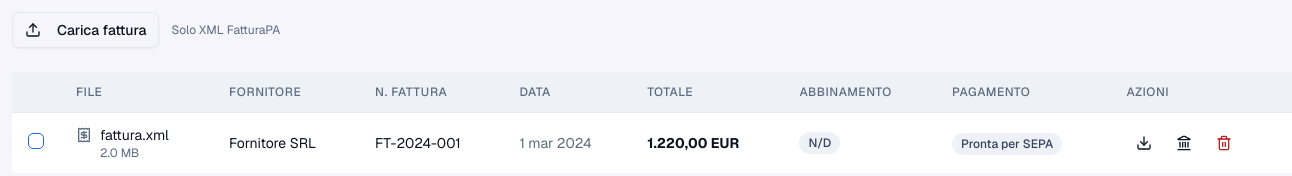
Test case: InvoicesTab › delete button is disabled while mutation is pending
This screenshot has width=1292, height=176.
Click the button titled "Elimina fattura": (1224, 143) [1206,127,1242,159]
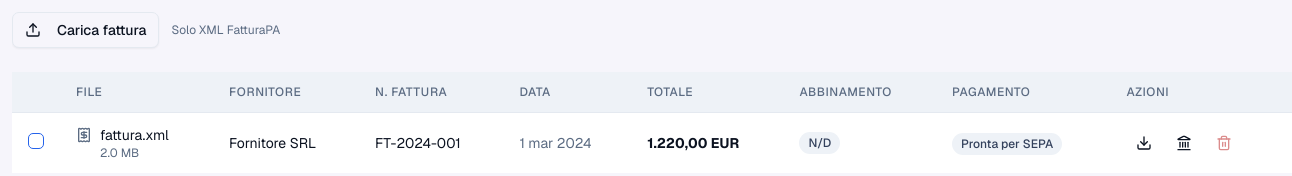
expect the button titled "Elimina fattura" is disabled: met, box [1206,127,1242,159]
